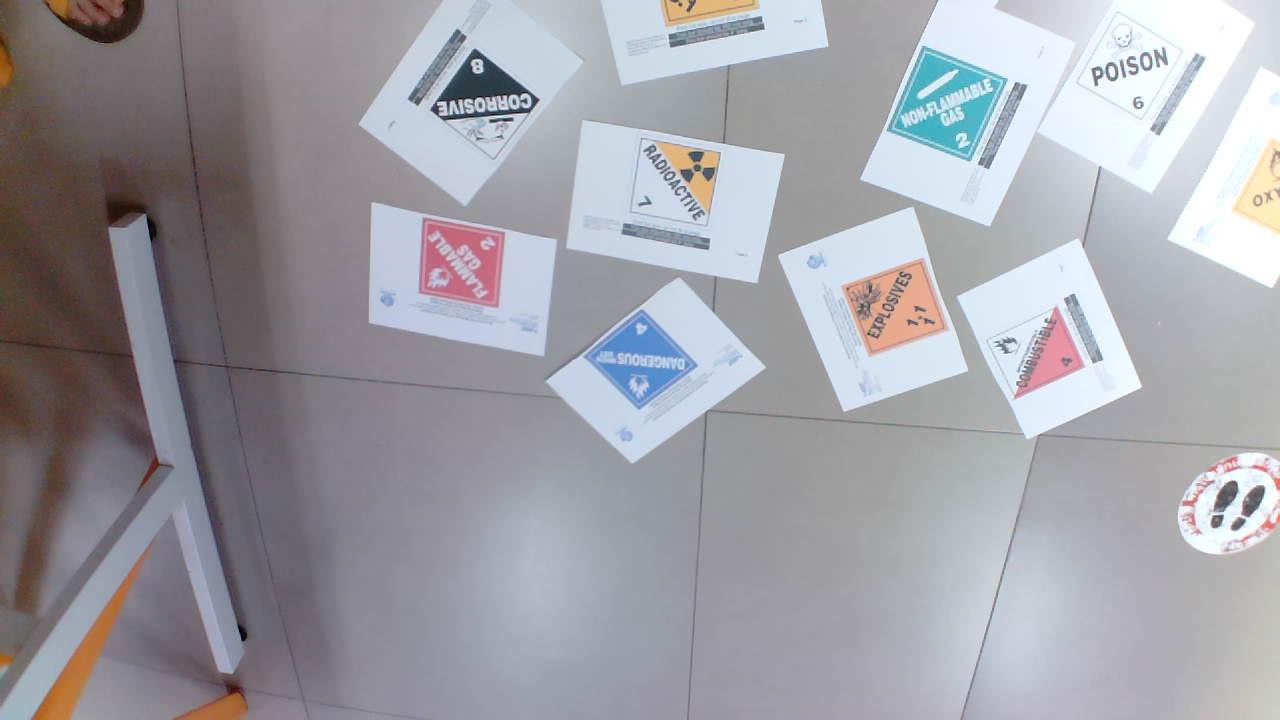corrosive: (432, 43, 541, 160)
dangerous-when-wet: (582, 310, 702, 412)
explosive: (832, 256, 955, 361)
flammable: (417, 211, 519, 319)
non-flammable-gas: (892, 45, 1009, 171)
oxidizer: (1240, 133, 1280, 239)
poison: (1082, 11, 1182, 127)
radioactive: (632, 133, 730, 236)
spontaneously-combustible: (972, 293, 1094, 401)
